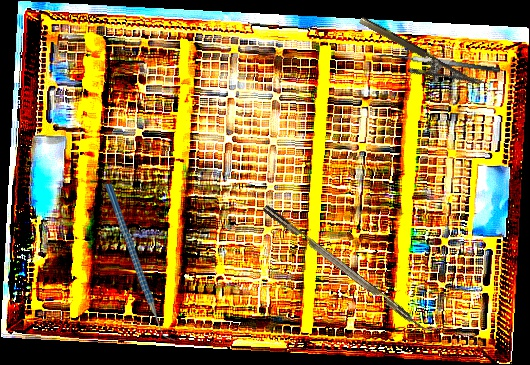Chopper: (262, 196, 442, 342), (104, 182, 177, 343)
Needle Holder: (349, 14, 483, 106)
Spatula Surgical: (378, 47, 501, 84)
